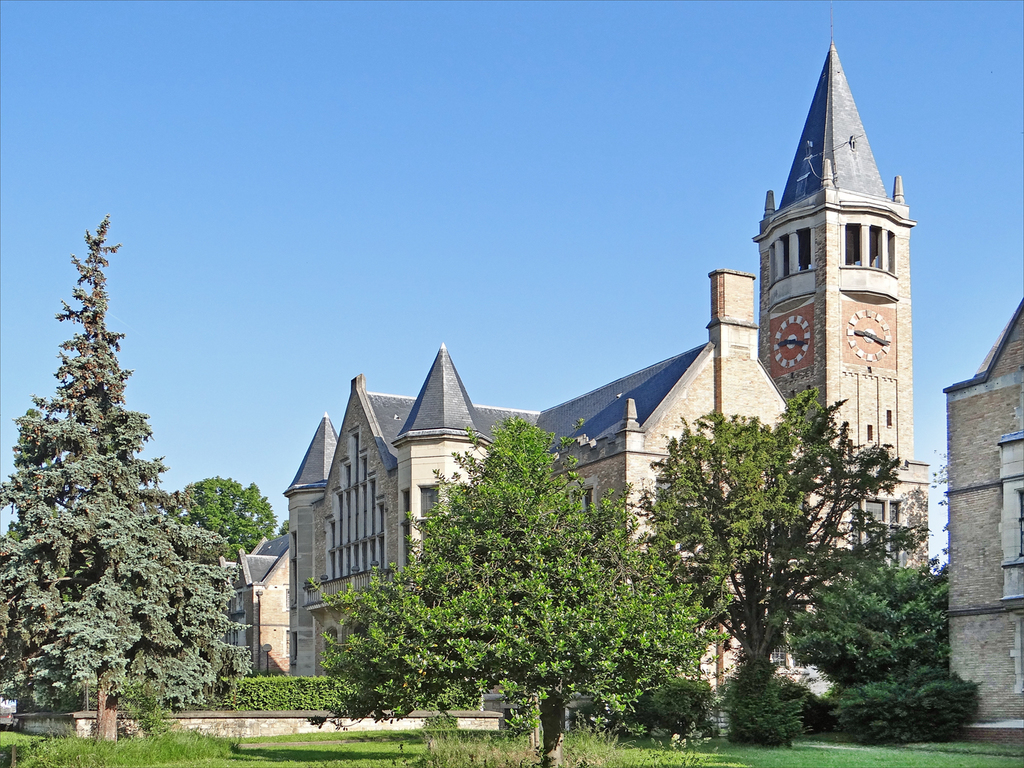Tree: (302, 417, 699, 767), (15, 192, 225, 742), (628, 399, 876, 702), (793, 570, 960, 725), (181, 474, 285, 556)
